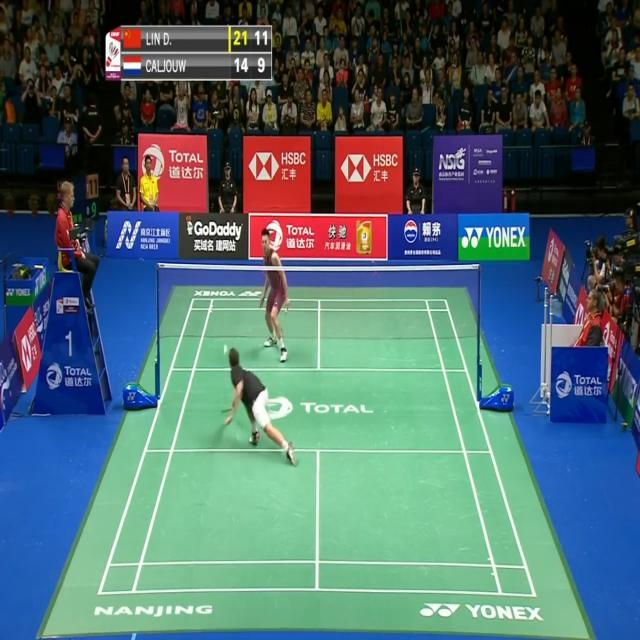Player1: (218, 341, 300, 474)
Player2: (252, 222, 298, 366)
